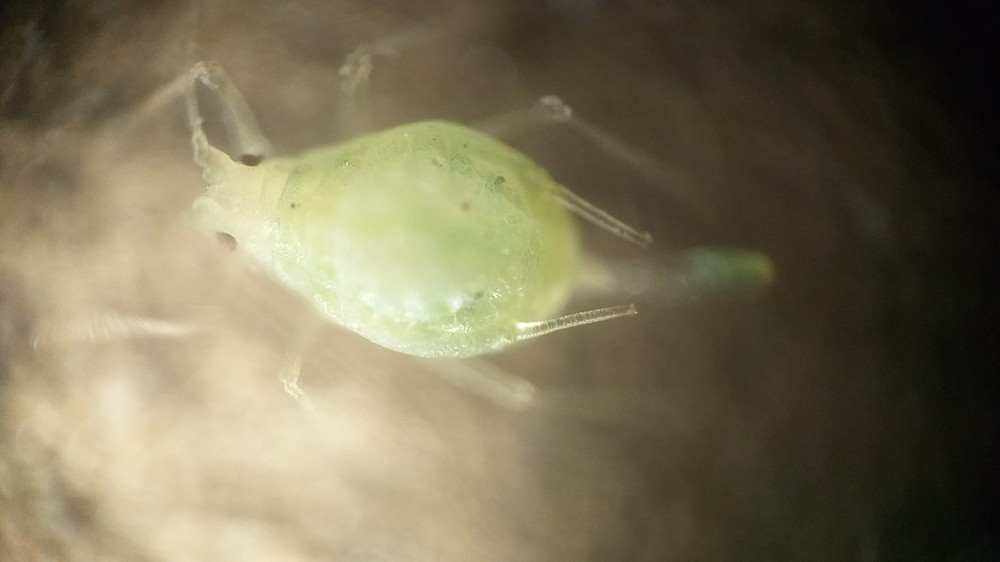Pulgon: (111, 24, 738, 442)
